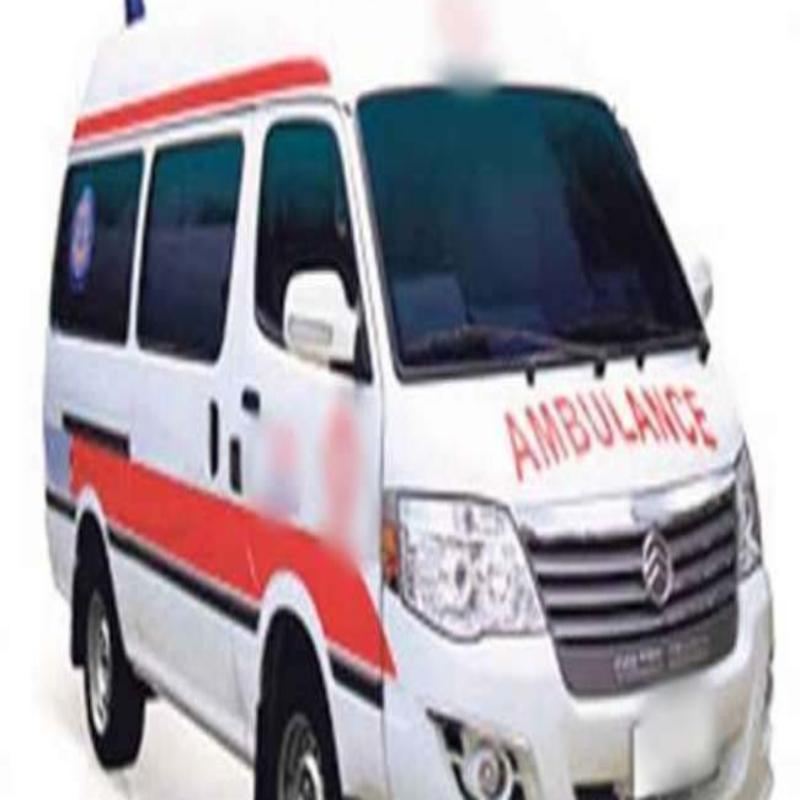ambulance: (59, 15, 775, 800)
